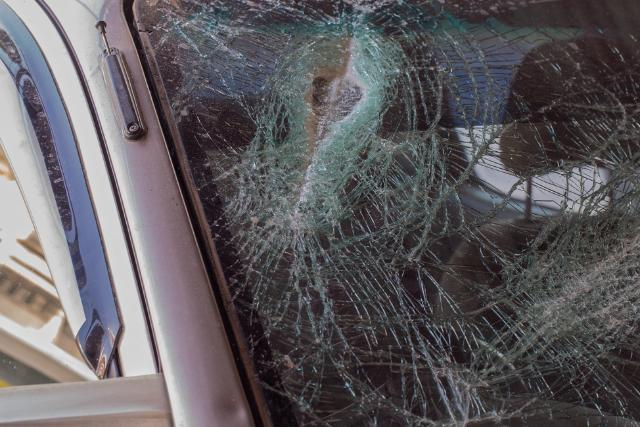Windshield: (126, 0, 640, 427)
